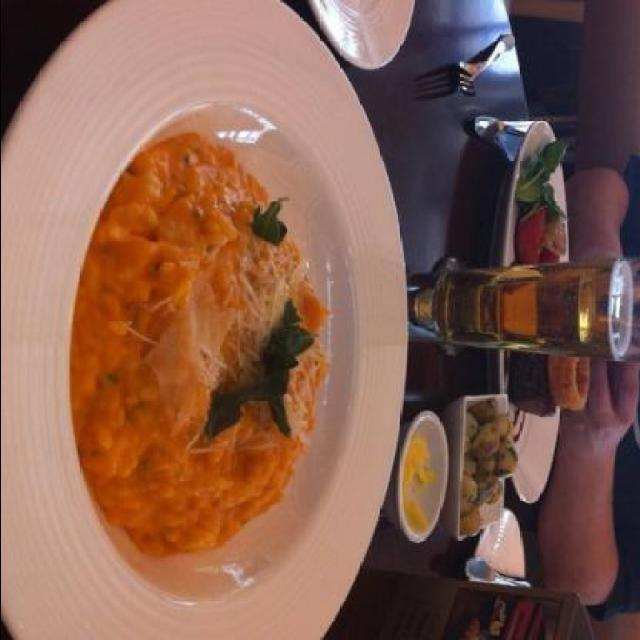Risotto: (84, 142, 338, 542)
